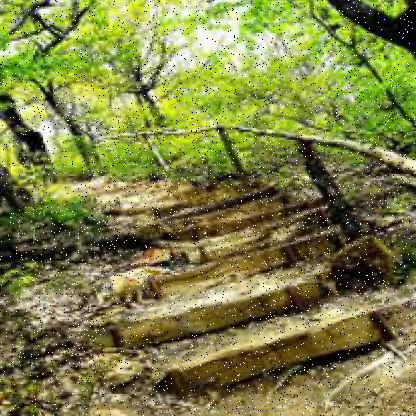stair_up: (101, 236, 416, 380)
